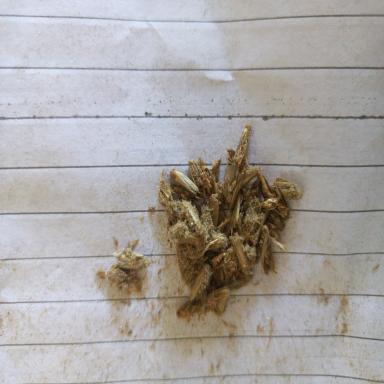pbw: (257, 222, 278, 274), (161, 169, 178, 227), (226, 164, 262, 191), (230, 238, 252, 281), (169, 169, 198, 199), (231, 123, 252, 164), (190, 264, 216, 296), (166, 222, 203, 244), (270, 180, 290, 220), (227, 191, 246, 230), (178, 301, 206, 327), (110, 267, 141, 290), (204, 154, 220, 197), (180, 200, 202, 230), (254, 173, 274, 203), (264, 202, 284, 231), (112, 251, 145, 268), (249, 211, 266, 244), (202, 286, 232, 304), (200, 202, 213, 243), (207, 196, 221, 233), (210, 246, 233, 267), (206, 228, 225, 252), (278, 176, 300, 196), (253, 196, 281, 211), (214, 291, 227, 315)
